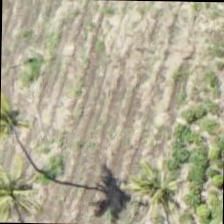Kelapa_Sawit: (116, 146, 208, 223), (0, 81, 58, 173), (0, 149, 55, 223)
